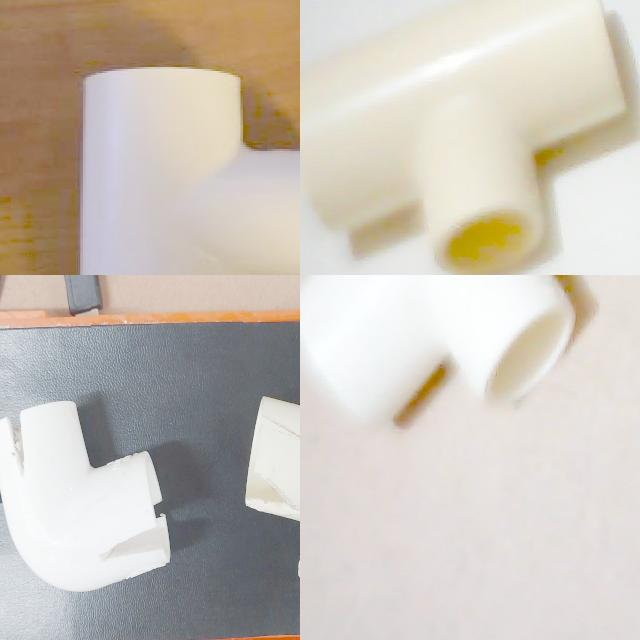Defective: (141, 455, 186, 565), (107, 449, 134, 532), (150, 275, 171, 341)
L Joint: (91, 275, 244, 560)
T Joint: (300, 0, 640, 275), (78, 68, 300, 275), (300, 275, 575, 426)
